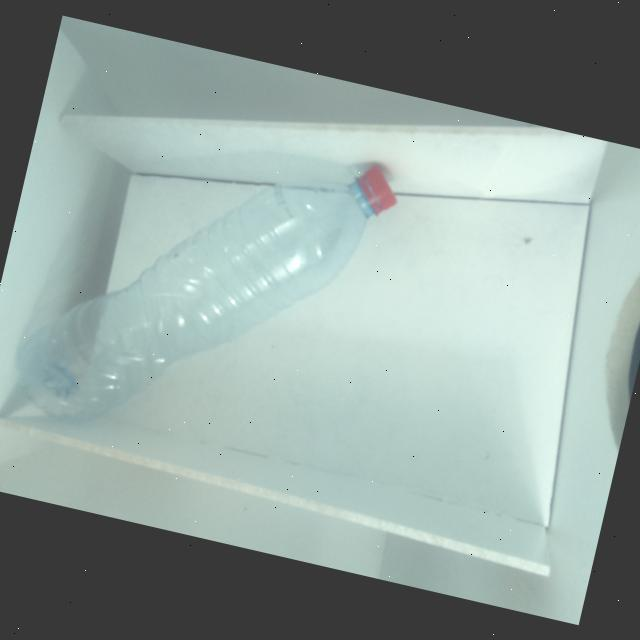trash: (0, 91, 408, 489)
